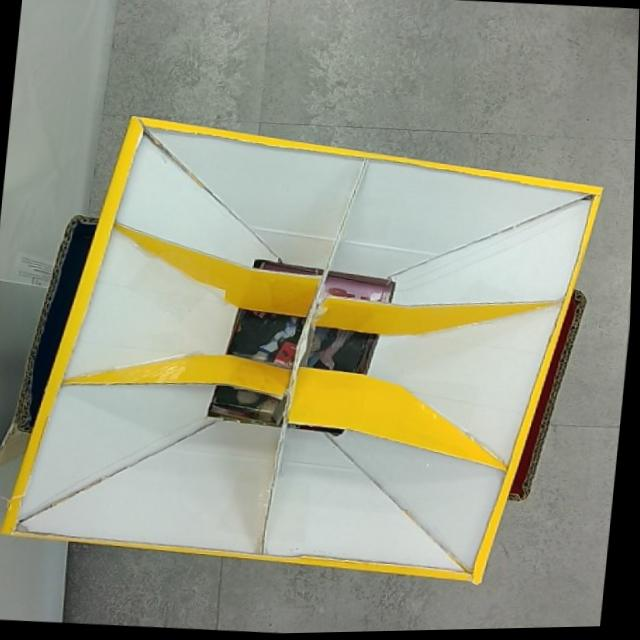box: (0, 98, 612, 600)
